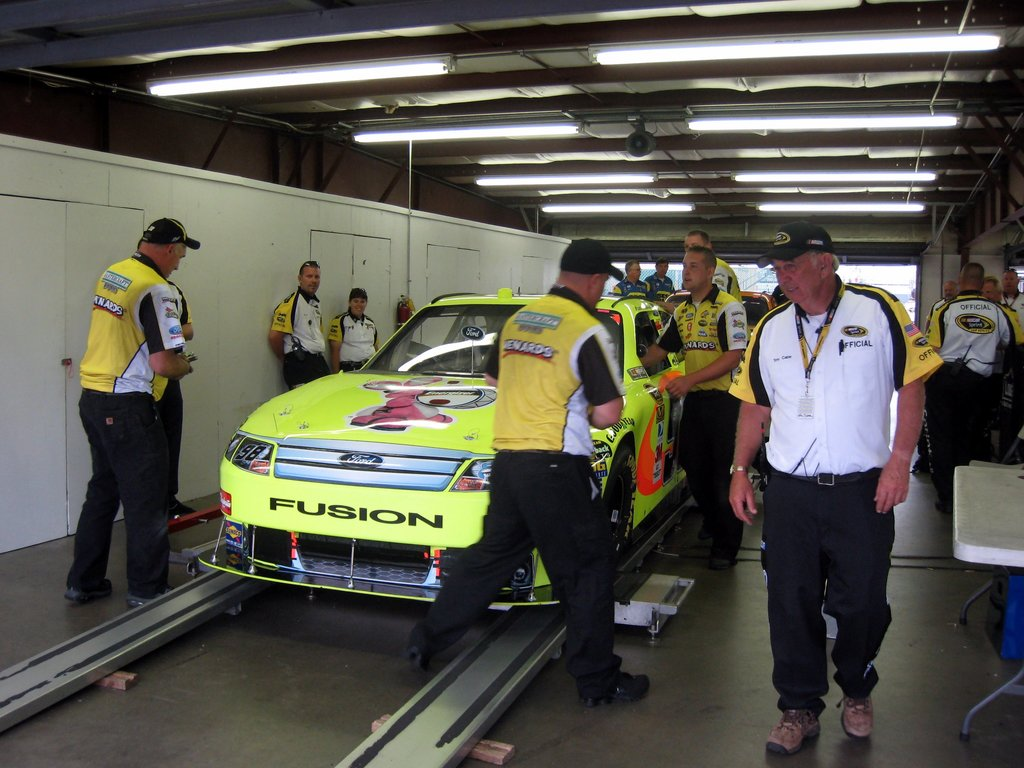Car: (183, 283, 796, 597)
